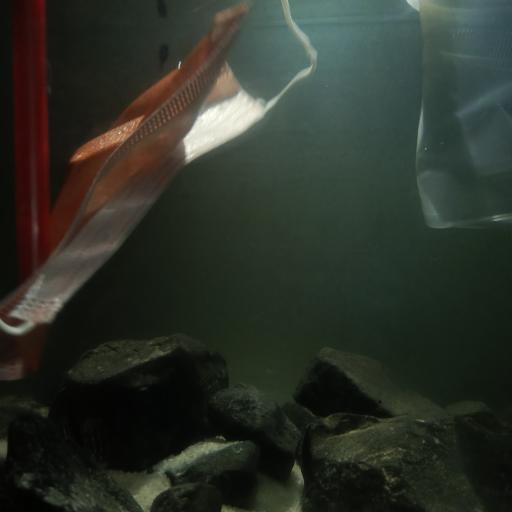mask: (0, 2, 319, 331)
plastic_cup: (415, 0, 512, 234)
plastic_straw: (8, 0, 52, 298)
